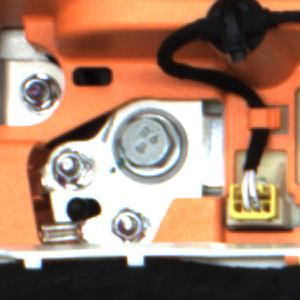nut_b: (111, 106, 189, 186)
screw_s: (41, 140, 85, 185), (108, 211, 153, 245), (24, 72, 60, 113)
